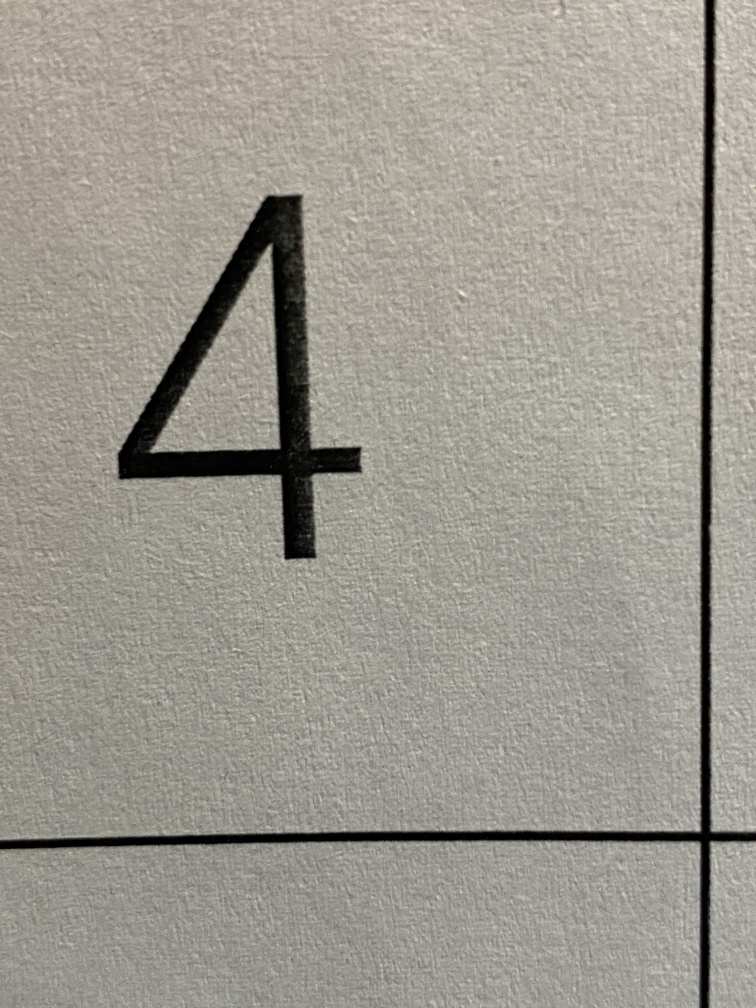four: (86, 137, 437, 623)
